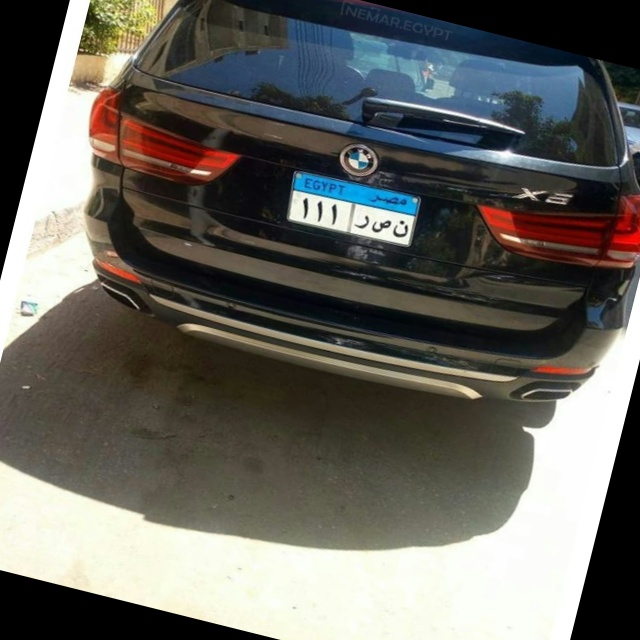License Plate: (280, 164, 428, 254)
